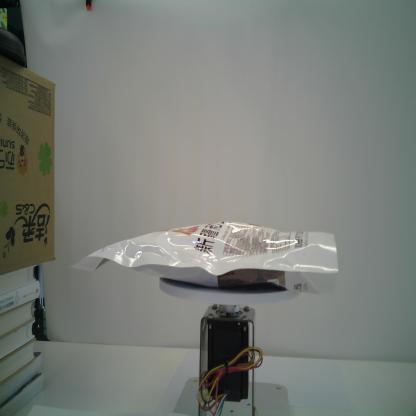Dried Food: (65, 216, 341, 301)
